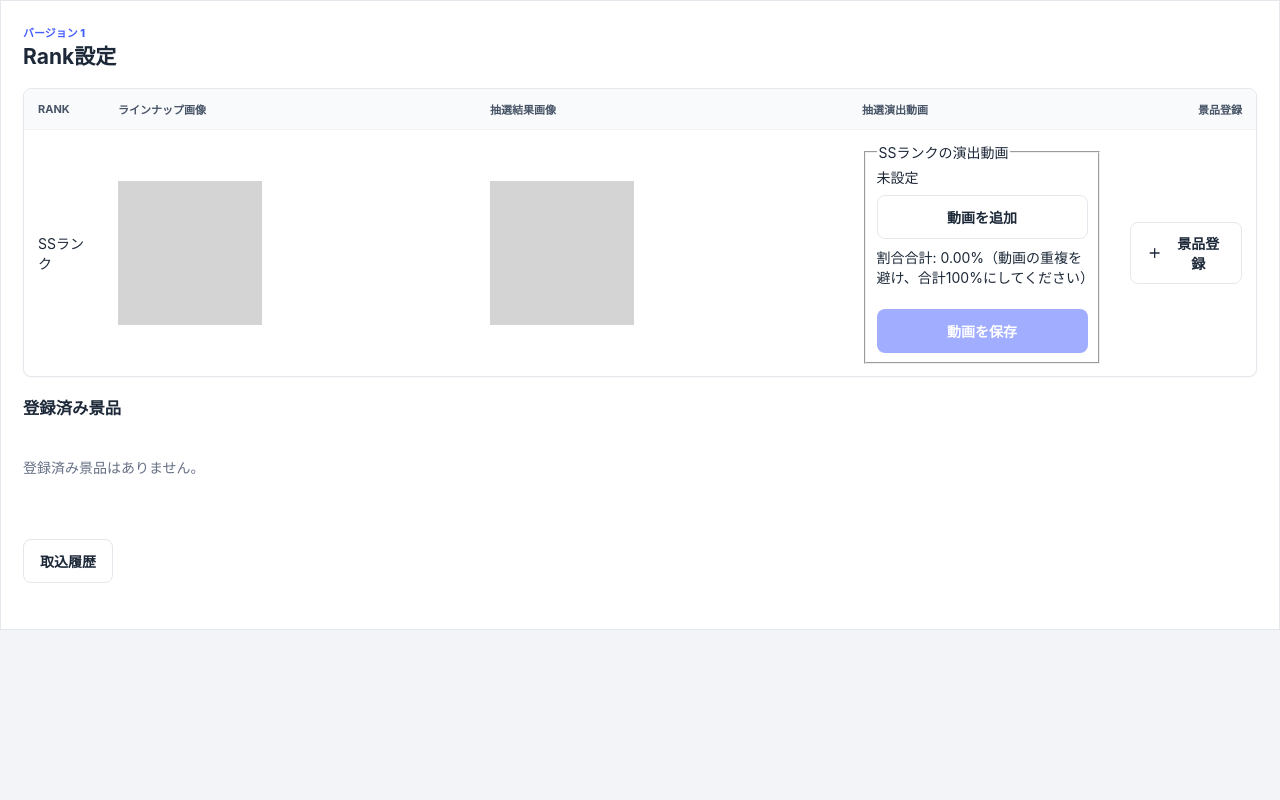
Test: Canonical Gacha Rank and Prize manager › rejects opening Prize registration until the Rank video is configured
Expected: the text "SSランク" is shown, 24,130 -> 104,376
Click the button "景品登録": (1186, 253) 1130,222 -> 1242,284
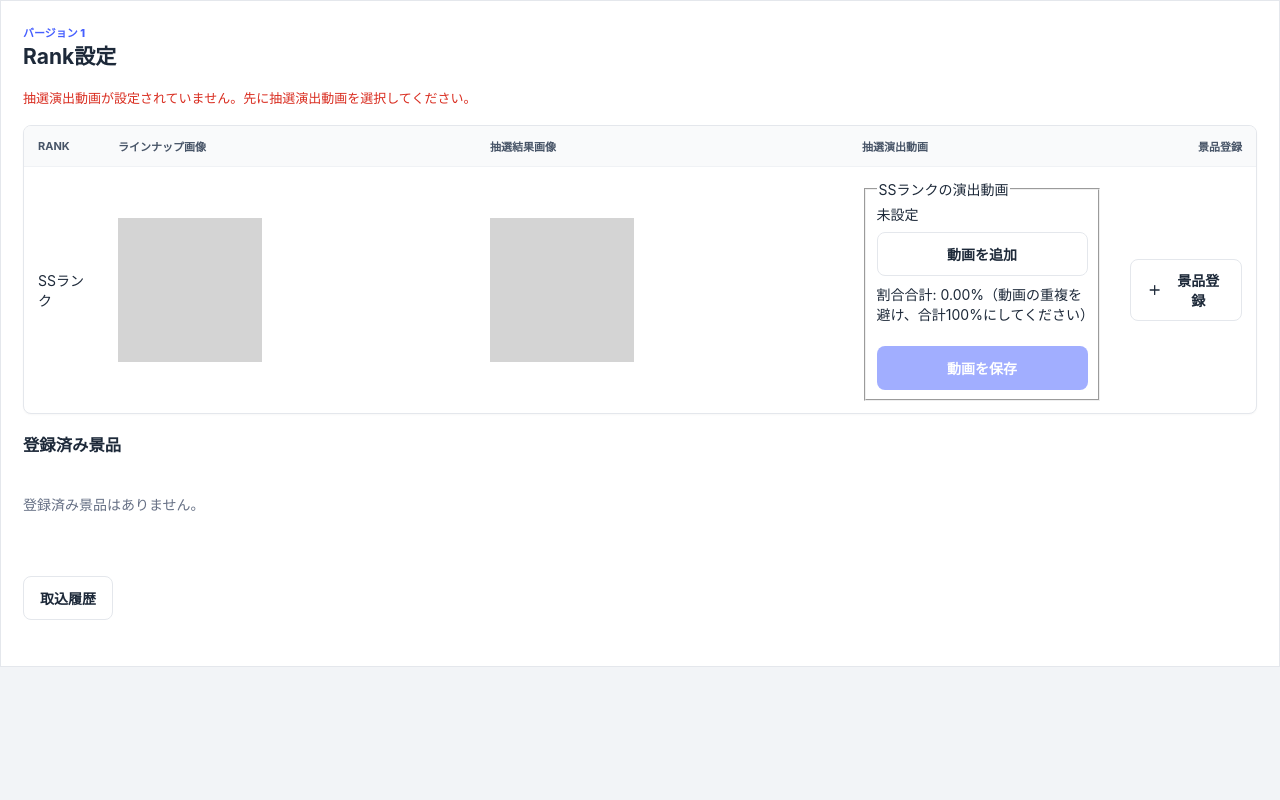
Expected: the message "抽選演出動画が設定されていません。先に抽選演出動画を選択してください。" is shown, 23,90 -> 476,106
